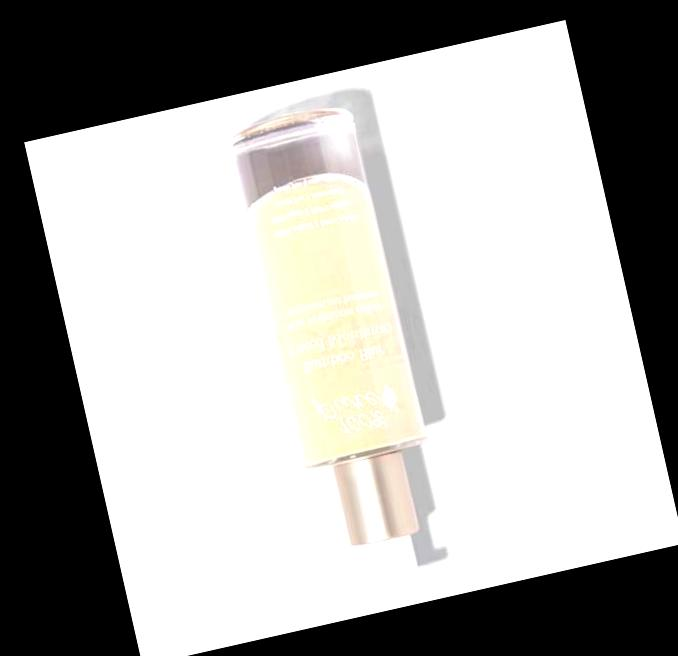cosmetic: (225, 109, 457, 599)
